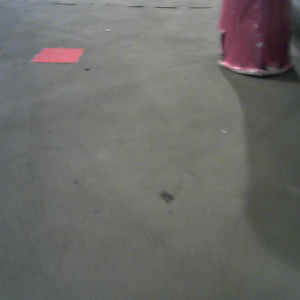Right: (219, 1, 294, 78)
